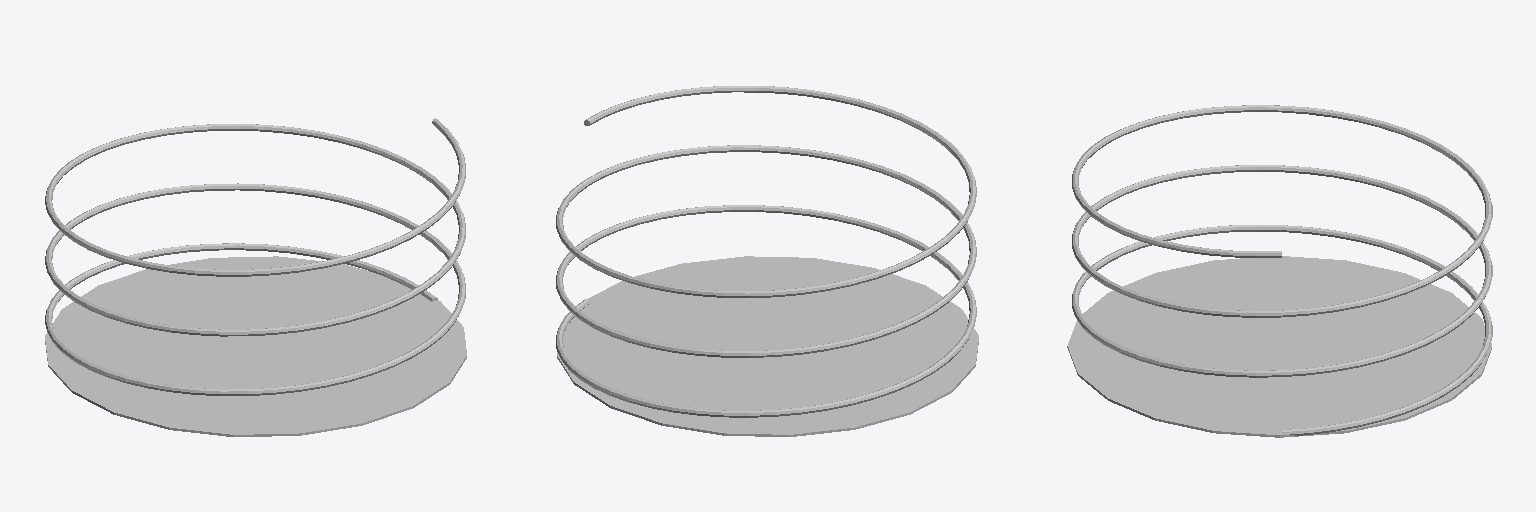
The model's file is ThirdFloor.obj.
The picture shows the model from 3 angles: view 1: azimuth 30°, elevation 25°; view 2: azimuth 150°, elevation 25°; view 3: azimuth 270°, elevation 25°; orthographic projection.
Visible parts, largest first — view 1: ThirdFloor1:pCylinder1, pHelix1; view 2: ThirdFloor1:pCylinder1, pHelix1; view 3: ThirdFloor1:pCylinder1, pHelix1.
Part boxes in pixels (x1,y1,x2,y2): ThirdFloor1:pCylinder1: (45, 256, 466, 436); pHelix1: (45, 118, 465, 395); ThirdFloor1:pCylinder1: (557, 256, 978, 436); pHelix1: (556, 86, 976, 417); ThirdFloor1:pCylinder1: (1067, 256, 1491, 437); pHelix1: (1072, 105, 1492, 435).
Size of the model in its own units: 57.25 by 27.65 by 57.27.